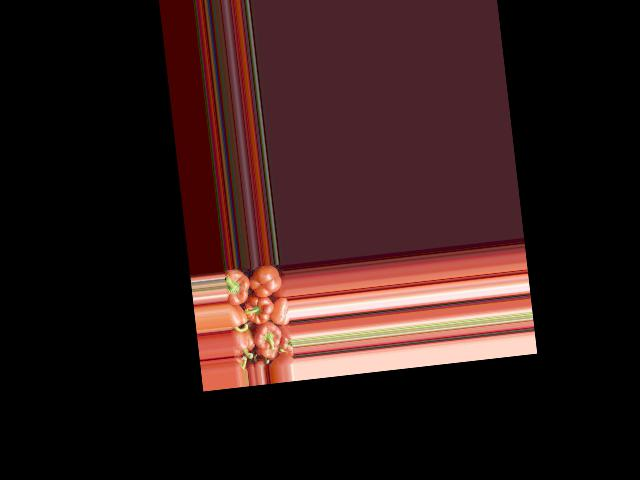bell_pepper: (270, 296, 289, 325)
